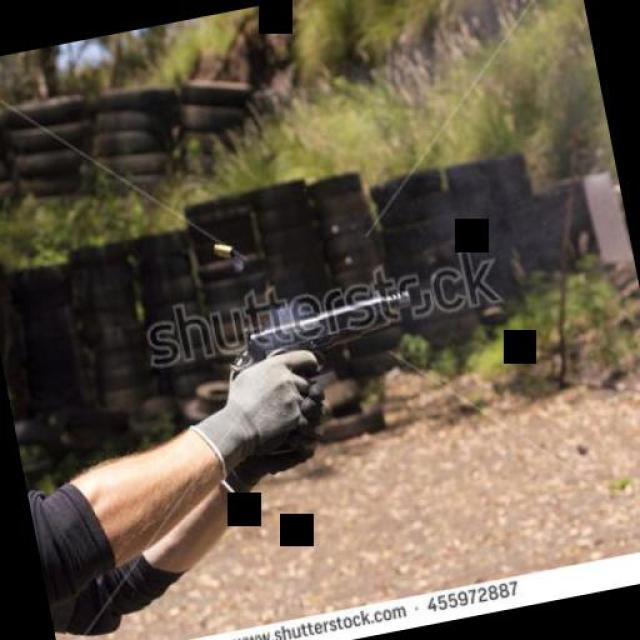gun: (232, 286, 432, 459)
